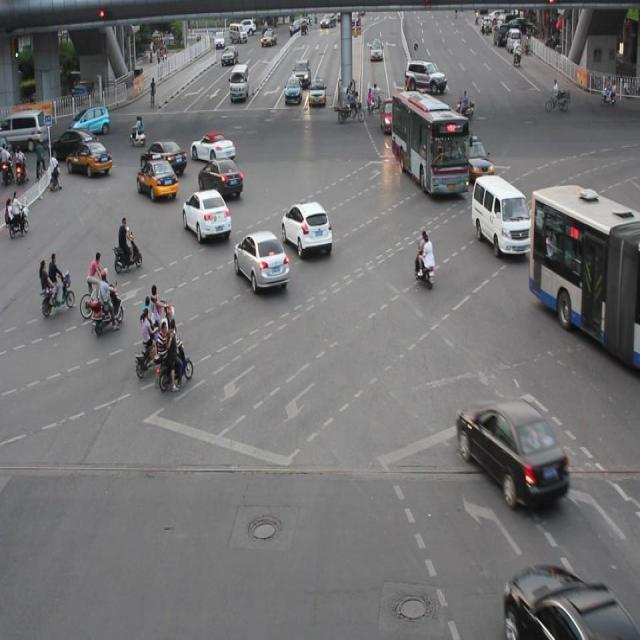car: (455, 395, 569, 507), (502, 562, 640, 640), (233, 228, 290, 290), (280, 200, 332, 255), (182, 187, 232, 241), (198, 156, 243, 200), (140, 138, 187, 176), (137, 157, 178, 200), (67, 138, 112, 176), (459, 134, 493, 181), (190, 130, 235, 163), (380, 98, 404, 134)
truck: (470, 172, 530, 253)
van: (527, 186, 640, 370), (393, 91, 468, 195)
